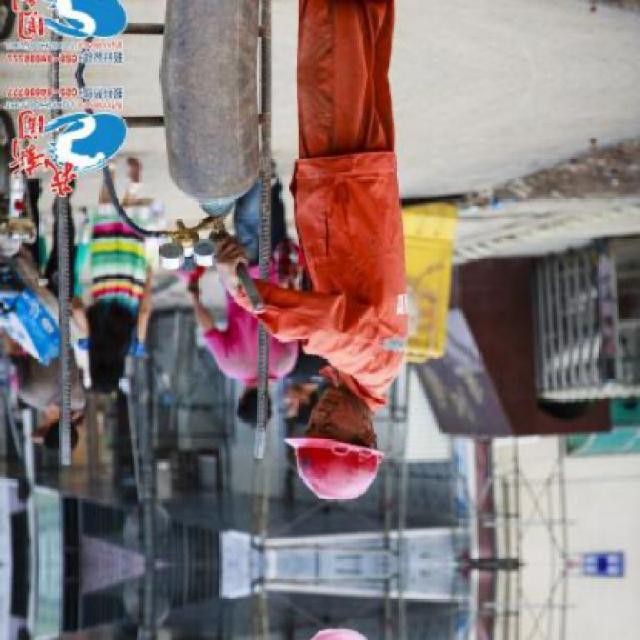con casco: (291, 346, 414, 534)
sin casco: (223, 374, 280, 447), (88, 356, 136, 420)
